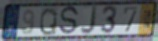3: (99, 5, 118, 36)
7: (123, 6, 139, 34)
9: (21, 8, 37, 36)
J: (79, 5, 99, 37)
Q: (38, 7, 59, 37)
S: (58, 5, 80, 37)
